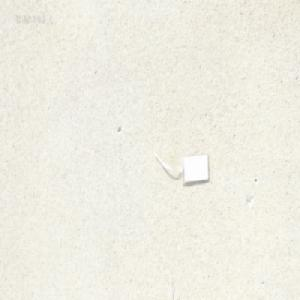LuggageTag: (153, 152, 210, 185)
